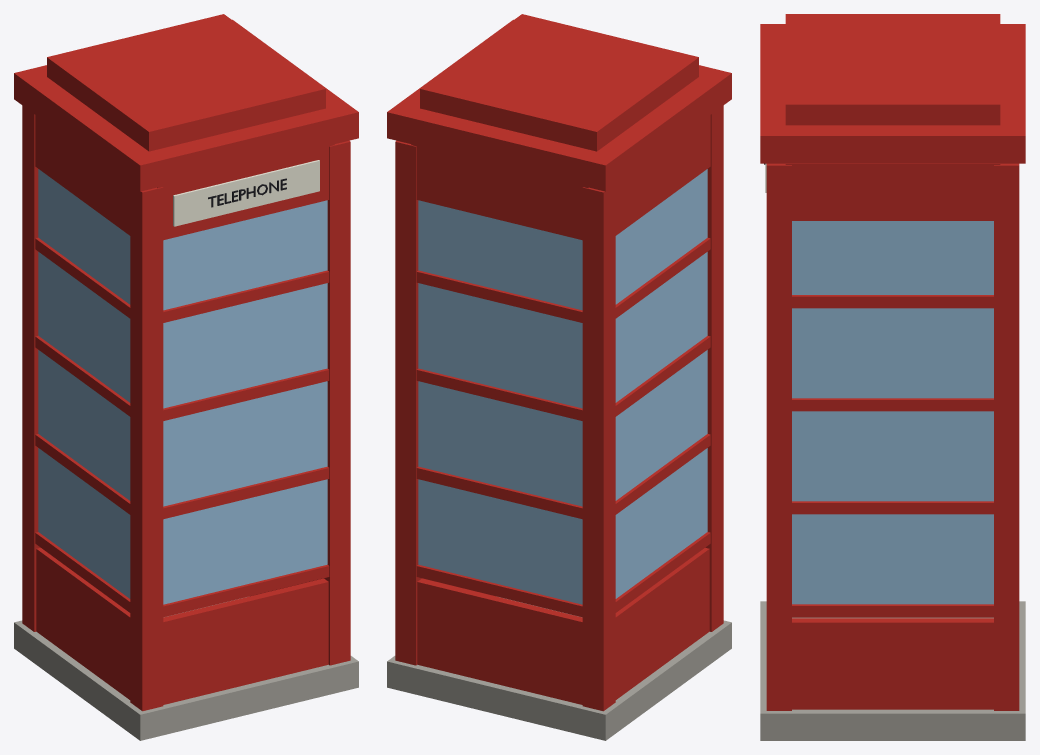
File: street.phone-box.glb
3 renders of one model, left to right at view 1: azimuth 30°, elevation 25°; view 2: azimuth 150°, elevation 25°; view 3: azimuth 270°, elevation 25°, orthographic. The views are drawn at different scales.
Parts seen in each view (by area): view 1: roof2, corner-11, kick0, roof, pane00, pane01, pane02, corner11, pane03, base, kick3, corner-1-1 (+15 smaller); view 2: roof2, corner-1-1, kick1, roof, pane10, pane11, pane12, corner1-1, pane13, base, head1, kick3 (+14 smaller); view 3: roof2, kick2, pane20, pane21, pane22, roof, pane23, corner1-1, corner11, head2, base, bar20 (+3 smaller).
Part boxes in pixels (x1,y1,x2,y2): roof2: (47, 14, 325, 151); corner-11: (130, 184, 163, 711); kick0: (163, 578, 328, 704); roof: (14, 19, 358, 191); pane00: (163, 479, 327, 604); pane01: (163, 381, 327, 506); pane02: (163, 283, 327, 408); corner11: (320, 140, 350, 665); pane03: (163, 200, 327, 310); base: (14, 597, 358, 740); kick3: (36, 547, 130, 699); corner-1-1: (22, 105, 40, 631); roof2: (420, 14, 698, 151); corner-1-1: (582, 184, 615, 711); kick1: (417, 578, 582, 704); roof: (387, 19, 731, 191); pane10: (418, 479, 582, 604); pane11: (418, 381, 582, 506); pane12: (418, 283, 582, 408); corner1-1: (395, 140, 425, 665); pane13: (418, 200, 582, 310); base: (387, 597, 731, 740); head1: (411, 144, 588, 240); kick3: (615, 547, 709, 699); roof2: (785, 14, 1000, 125); kick2: (792, 618, 993, 709); pane20: (792, 514, 993, 604); pane21: (792, 411, 993, 501); pane22: (792, 308, 993, 398); roof: (760, 24, 1025, 163); pane23: (792, 221, 993, 294); corner1-1: (994, 163, 1019, 710); corner11: (766, 163, 791, 710); head2: (785, 163, 1000, 220); base: (760, 601, 1025, 740); bar20: (792, 604, 993, 617).
Size of the model in its own units: 1.05 by 2.73 by 1.05.
